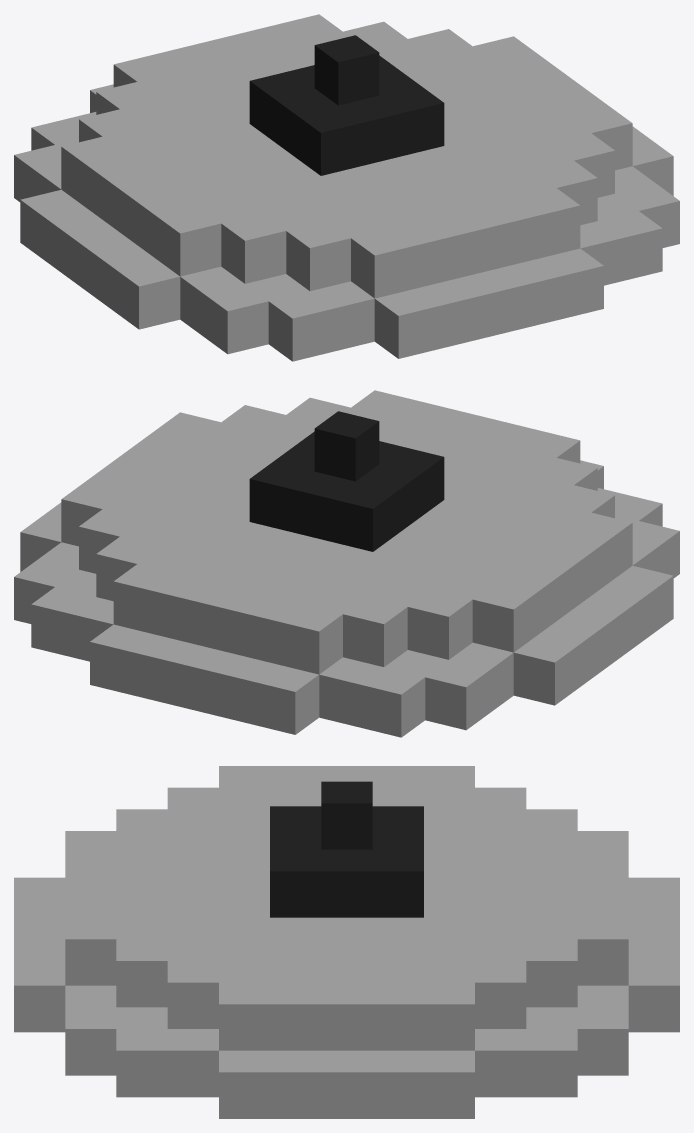
Rendered from Pot Lid.obj.
3 views of the same model, one above another, from view 1: azimuth 30°, elevation 25°; view 2: azimuth 150°, elevation 25°; view 3: azimuth 270°, elevation 25° (orthographic). The views are drawn at different scales.
Size of the model in its own units: 1.3 by 0.4 by 1.3.
1 material, 1 textured.
